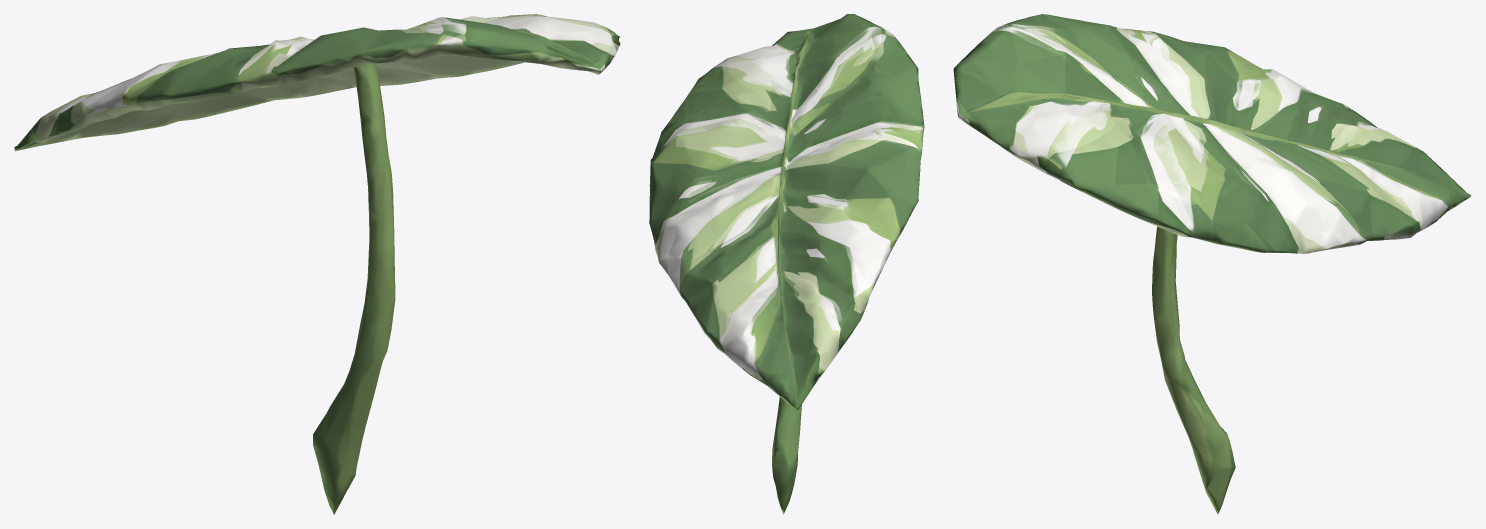
Rendered from ca_leaf_mid_whitefusion.glb.
3 renders of one model, left to right at view 1: azimuth 30°, elevation 25°; view 2: azimuth 150°, elevation 25°; view 3: azimuth 270°, elevation 25°, orthographic. The views are drawn at different scales.
Parts seen in each view (by area): view 1: tripo_node_f192df29-4725-45f6-bd8c-cdf33d369d12; view 2: tripo_node_f192df29-4725-45f6-bd8c-cdf33d369d12; view 3: tripo_node_f192df29-4725-45f6-bd8c-cdf33d369d12.
Boxes of the visible parts, x1,y1,x2,y2 form: tripo_node_f192df29-4725-45f6-bd8c-cdf33d369d12: (14, 14, 620, 514); tripo_node_f192df29-4725-45f6-bd8c-cdf33d369d12: (649, 14, 924, 514); tripo_node_f192df29-4725-45f6-bd8c-cdf33d369d12: (953, 14, 1471, 514).
Size of the model in its own units: 0.6562 by 0.9339 by 0.8993.
1 material, 1 textured.
